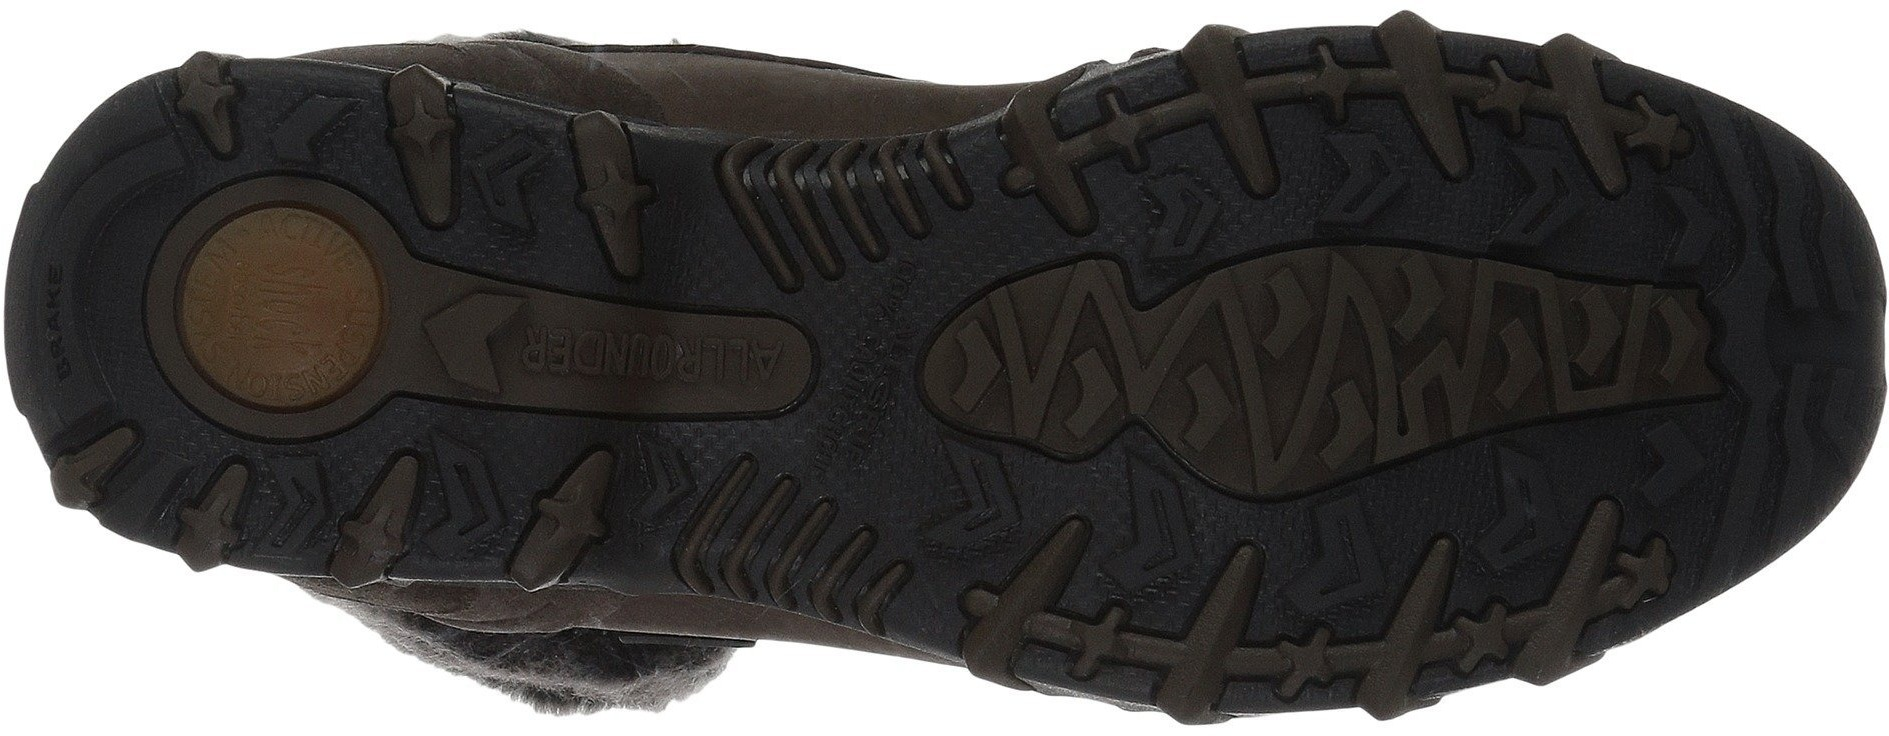exclude: (204, 575, 1006, 728)
text: (204, 245, 364, 389), (655, 307, 772, 426), (523, 299, 631, 402), (826, 341, 917, 436), (25, 290, 88, 347)
